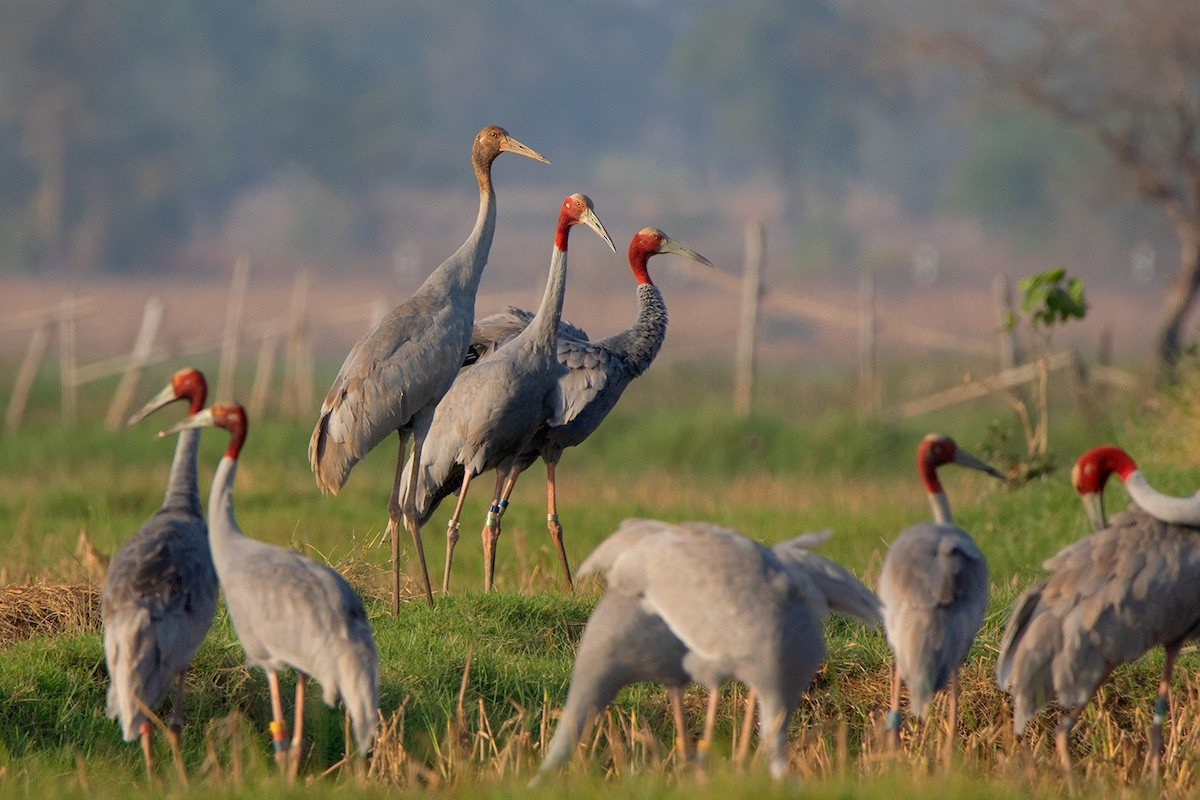crane: (303, 107, 557, 561), (159, 399, 386, 751), (432, 192, 616, 588), (888, 427, 1021, 749), (115, 351, 215, 708), (619, 224, 722, 395), (1070, 428, 1200, 543)
